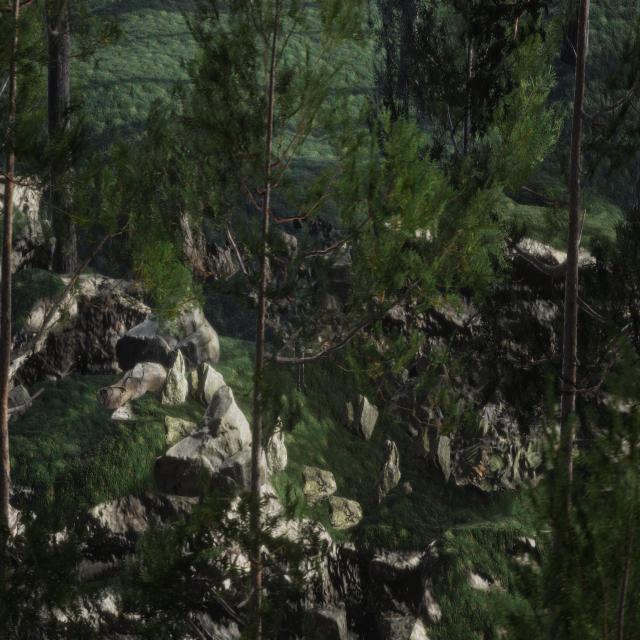Human: (292, 326, 312, 398)
